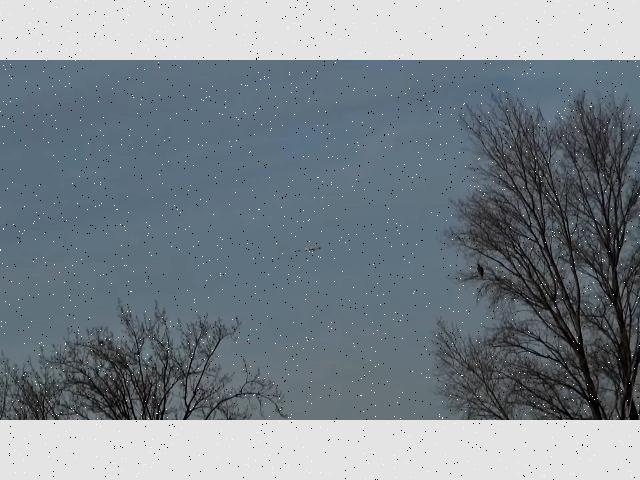Anti-Drone: (296, 248, 320, 252)
